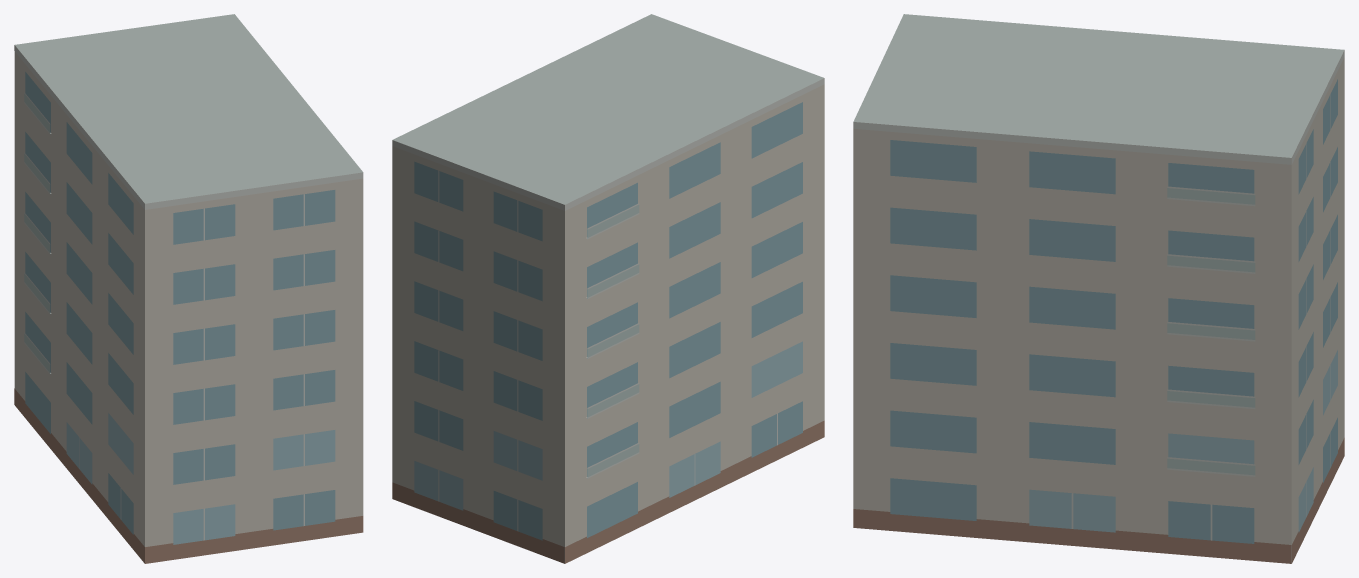
Rendered from survey-upis-33007894.glb.
3 views of the same model, side by side, from view 1: azimuth 30°, elevation 25°; view 2: azimuth 150°, elevation 25°; view 3: azimuth 270°, elevation 25° (orthographic). The views are drawn at different scales.
Visible parts, largest first — view 1: survey-upis-33007894.tmp; view 2: survey-upis-33007894.tmp; view 3: survey-upis-33007894.tmp.
Part boxes in pixels (x1,y1,x2,y2): survey-upis-33007894.tmp: [14, 14, 363, 563]; survey-upis-33007894.tmp: [392, 14, 824, 563]; survey-upis-33007894.tmp: [853, 14, 1344, 563].
Size of the model in its own units: 10.89 by 14.3 by 15.7.
